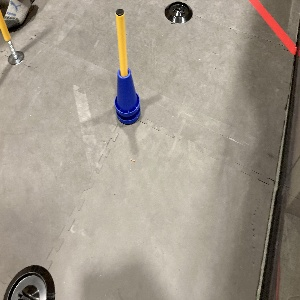Blue_2: (114, 67, 140, 125)
